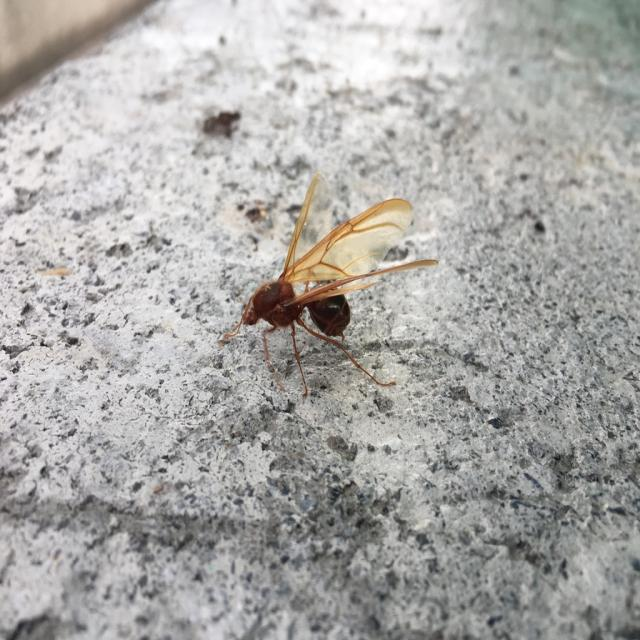Alive-Female-Alate: (226, 170, 438, 397)
